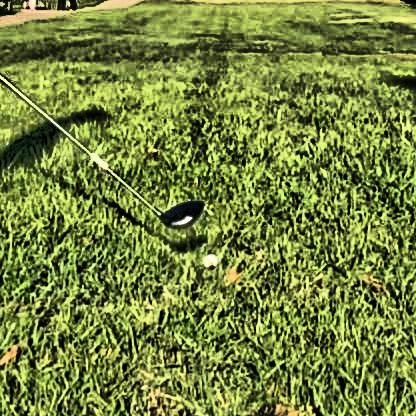golfball: (198, 250, 215, 267)
